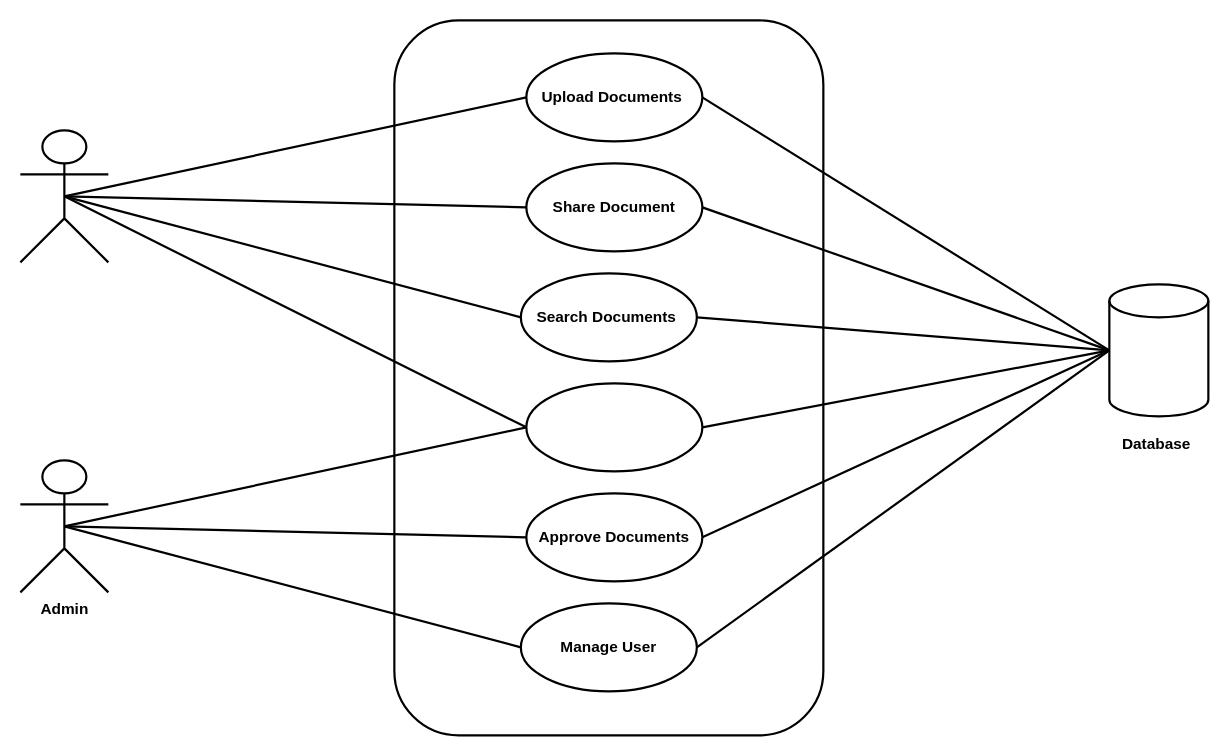
Image size: 1228x755. Some labels were removed from this diagram. The shapes that lost their labels are listed below. From the top down, each one's centre as x and y in pixels, then its label:
At [64,196]: "User".
At [614,427]: "Login".
